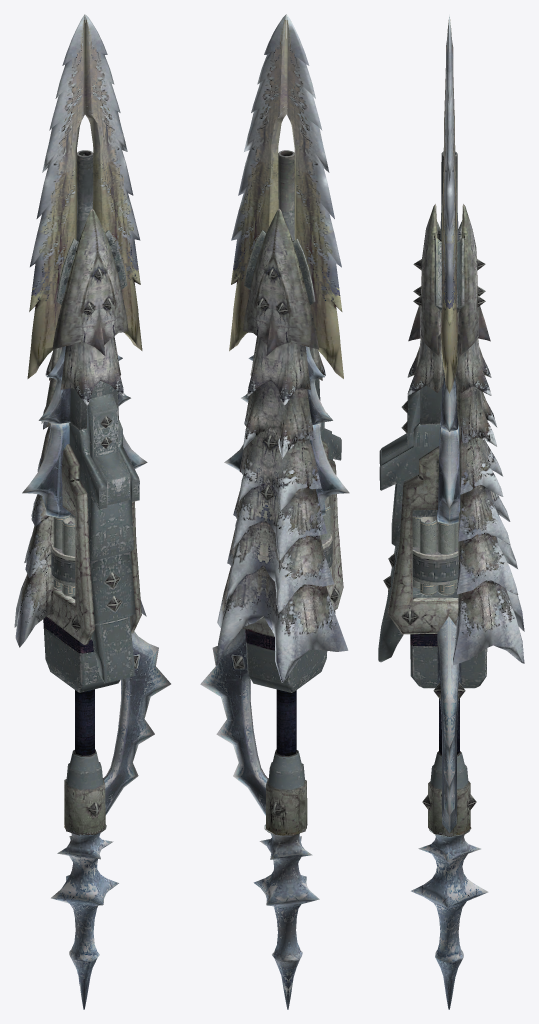
The model's file is gun029.obj.
3 views of the same model, side by side, from view 1: azimuth 30°, elevation 25°; view 2: azimuth 150°, elevation 25°; view 3: azimuth 270°, elevation 25° (orthographic).
Visible parts, largest first — view 1: gun029_002_LOD_1, gun029_000_LOD_1, gun029_003_LOD_1, gun029_001_LOD_1; view 2: gun029_003_LOD_1, gun029_000_LOD_1, gun029_002_LOD_1, gun029_001_LOD_1; view 3: gun029_002_LOD_1, gun029_003_LOD_1, gun029_000_LOD_1, gun029_001_LOD_1.
Boxes of the visible parts, x1,y1,x2,y2 form: gun029_002_LOD_1: (47,150,141,1009); gun029_000_LOD_1: (27,14,142,692); gun029_003_LOD_1: (14,208,146,647); gun029_001_LOD_1: (22,346,170,815); gun029_003_LOD_1: (216,208,348,682); gun029_000_LOD_1: (229,14,343,692); gun029_002_LOD_1: (232,150,343,1009); gun029_001_LOD_1: (200,346,349,815); gun029_002_LOD_1: (378,151,488,1009); gun029_003_LOD_1: (407,204,524,665); gun029_000_LOD_1: (410,14,487,688); gun029_001_LOD_1: (437,370,461,832).
Size of the model in its own units: 64.62 by 409 by 54.55.
